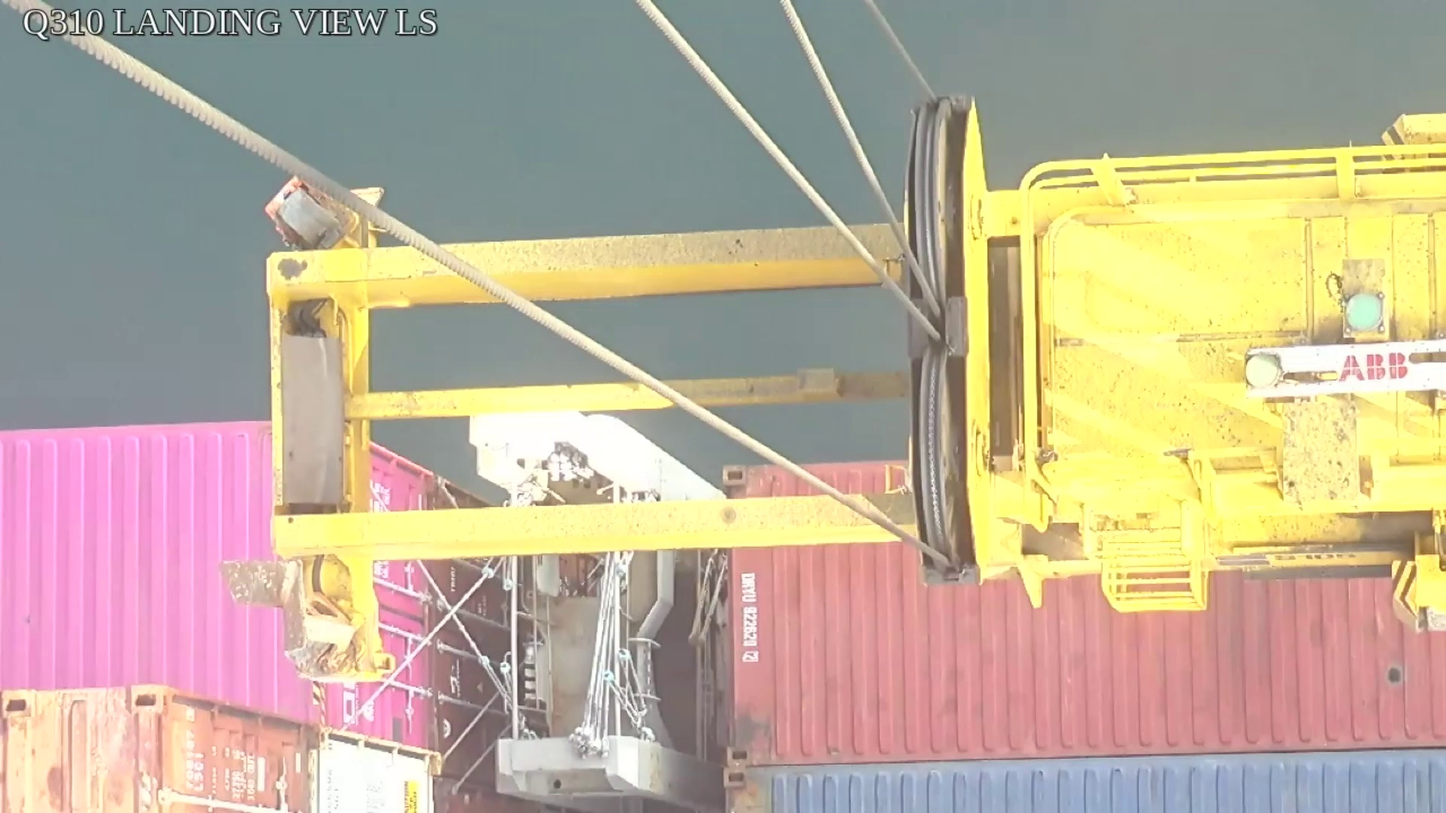aa: (903, 96, 997, 581)
